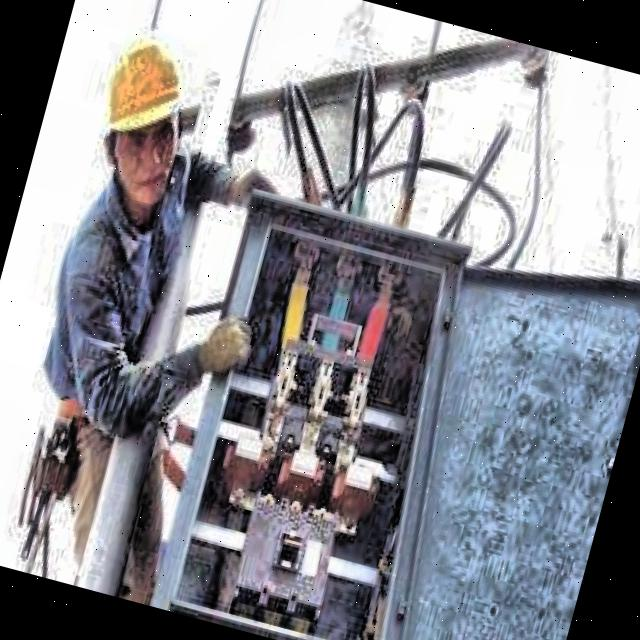helmet: (70, 7, 218, 230)
